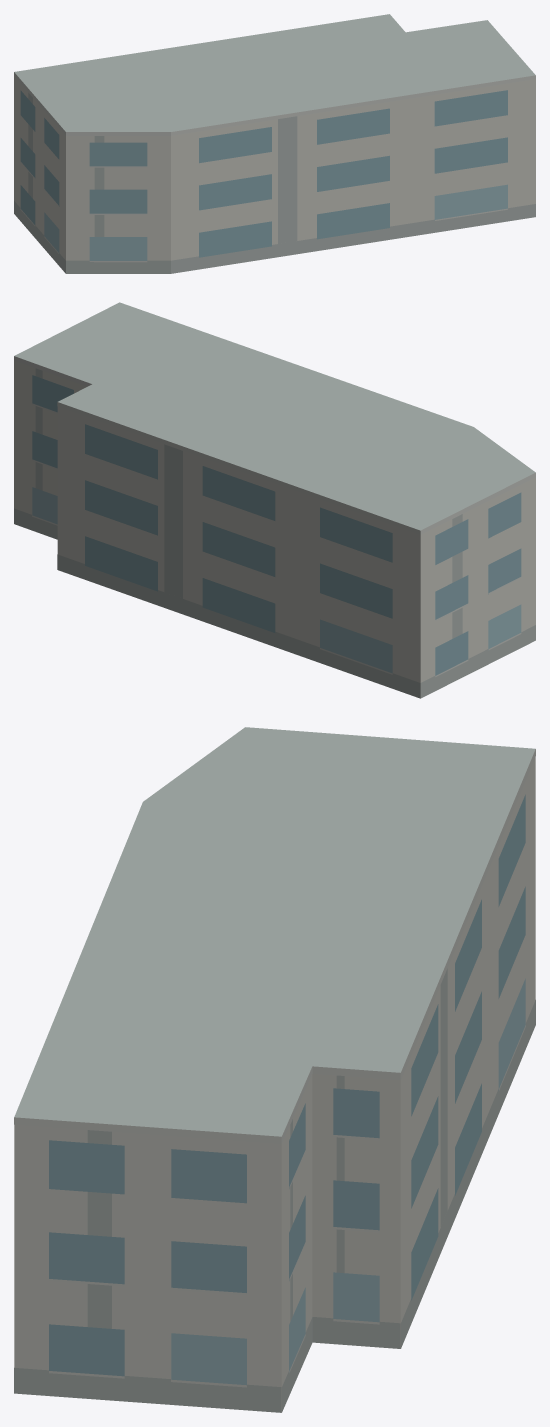
The model's file is survey-upis-32793928.glb.
3 views of the same model, one above another, from view 1: azimuth 30°, elevation 25°; view 2: azimuth 150°, elevation 25°; view 3: azimuth 270°, elevation 25° (orthographic). The views are drawn at different scales.
Parts seen in each view (by area): view 1: survey-upis-32793928.tmp; view 2: survey-upis-32793928.tmp; view 3: survey-upis-32793928.tmp.
Part boxes in pixels (bbox=[...]): survey-upis-32793928.tmp: bbox=[14, 14, 535, 273]; survey-upis-32793928.tmp: bbox=[14, 302, 535, 698]; survey-upis-32793928.tmp: bbox=[14, 727, 535, 1412].
Bounding box in the file's own units: 29.12 × 9.15 × 15.68.
